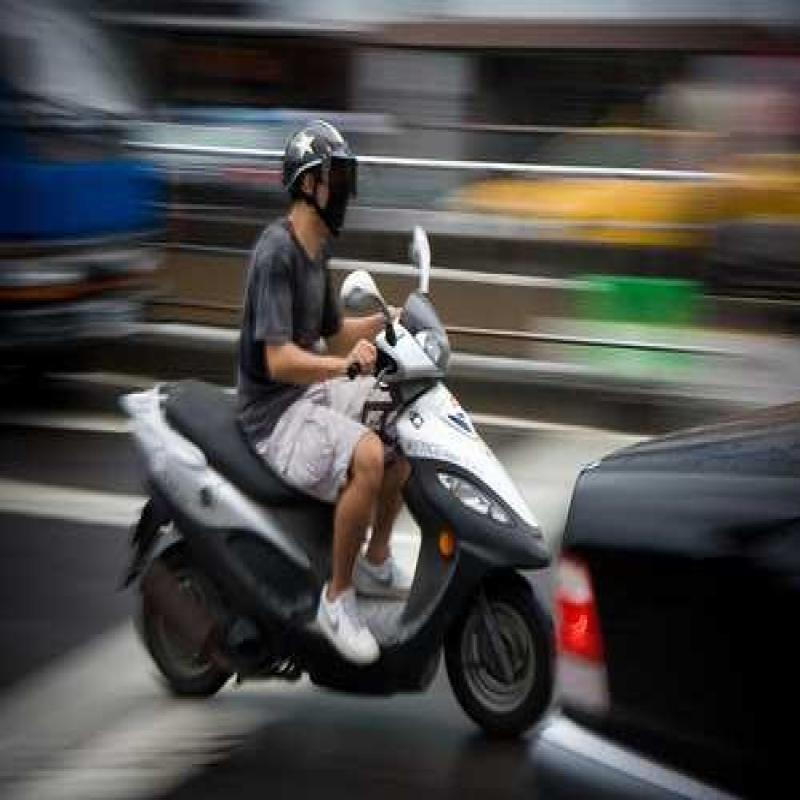bike: (127, 303, 563, 762)
